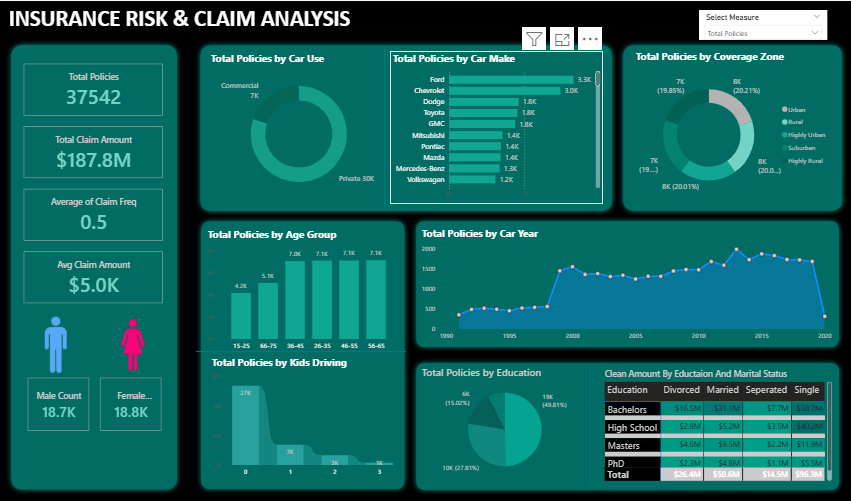

This screenshot's page, from the dashboard's own definition file:
{"tool":"powerbi","page":{"name":"Insurance Risk","canvas":[1600,950],"ordinal":0},"visuals":[{"type":"textbox","box":[10.5,0,663.5,111.3],"z":0},{"type":"shape","box":[10.5,73.5,329.7,850.4],"z":1000},{"type":"cardVisual","fields":{"Data":["insurance_data_car.Total Policies","insurance_data_car.Total Claim Amount","Avg(insurance_data_car.Claim Freq)","insurance_data_car.Avg Claim Amount"]},"box":[39.9,111.3,270.9,459.8],"z":2000},{"type":"cardVisual","fields":{"Data":["insurance_data_car.Male Count","insurance_data_car.Female Count"]},"box":[46.2,699.2,260.4,109.2],"z":3000},{"type":"image","box":[45.8,585.4,114.6,114.6],"z":4000},{"type":"image","box":[191.7,585.4,114.6,114.6],"z":5000},{"type":"slicer","fields":{"Values":["Select Measure.Select Measure"]},"box":[1306.2,16.7,239.6,56.2],"z":6000},{"type":"shape","box":[364.6,72.9,790,330],"z":7000},{"type":"donutChart","fields":{"Y":["insurance_data_car.Total Claim Amount"],"Category":["insurance_data_car.Car Use"]},"box":[389.6,93.8,339.6,285.4],"z":8000},{"type":"clusteredBarChart","fields":{"Y":["insurance_data_car.Total Claim Amount"],"Category":["insurance_data_car.Car Make"]},"box":[729.2,93.8,397.9,285.4],"z":9000},{"type":"shape","box":[1156.2,72.9,429.2,329.2],"z":10000},{"type":"donutChart","fields":{"Y":["insurance_data_car.Total Claim Amount"],"Category":["insurance_data_car.Coverage Zone"]},"box":[1183.3,89.6,375,295.8],"z":11000},{"type":"shape","box":[366.7,402.1,400,520.8],"z":12000},{"type":"clusteredColumnChart","fields":{"Y":["insurance_data_car.Total Claim Amount"],"Category":["insurance_data_car.Age Group"]},"box":[383.4,422.6,364.7,239.4],"z":13000},{"type":"ribbonChart","fields":{"Y":["insurance_data_car.Total Claim Amount"],"Category":["insurance_data_car.Kids Driving"]},"box":[390.8,662,357.2,235.6],"z":14000},{"type":"shape","box":[768.6,402.1,810,255],"z":15000},{"type":"areaChart","fields":{"Y":["insurance_data_car.Total Claim Amount"],"Category":["insurance_data_car.Car Year"]},"box":[783.2,419.9,776.9,222.6],"z":16000},{"type":"shape","box":[768.5,667.7,810.5,256.2],"z":17000},{"type":"pieChart","fields":{"Y":["insurance_data_car.Total Claim Amount"],"Category":["insurance_data_car.Education"]},"box":[783.2,680.3,321.3,216.3],"z":18000},{"type":"pivotTable","title":"Clean Amount By Eductaion And Marital Status","fields":{"Rows":["insurance_data_car.Education"],"Columns":["insurance_data_car.Marital Status"],"Values":["insurance_data_car.Total Claim Amount"]},"box":[1125.5,686.6,434.6,216.3],"z":19000},{"type":"shape","box":[569,86.1,300.3,300.3],"z":20000},{"type":"shape","box":[953.3,686.6,300.3,222.6],"z":21000},{"type":"shape","box":[367.5,543.8,392.7,222.6],"z":22000}]}

Visuals, with their boxes in screenshot pixels (x1, y1, x2, y2), scaled from the page's 1600x950 canvas onto the 851x501 screenshot:
textbox: BBox(6, 0, 358, 59)
shape: BBox(6, 39, 181, 487)
cardVisual - insurance_data_car.Total Policies x insurance_data_car.Total Claim Amount: BBox(21, 59, 165, 301)
cardVisual - insurance_data_car.Male Count x insurance_data_car.Female Count: BBox(25, 369, 163, 426)
image: BBox(24, 309, 85, 369)
image: BBox(102, 309, 163, 369)
slicer - Select Measure.Select Measure: BBox(695, 9, 822, 38)
shape: BBox(194, 38, 614, 212)
donutChart - insurance_data_car.Total Claim Amount x insurance_data_car.Car Use: BBox(207, 49, 388, 200)
clusteredBarChart - insurance_data_car.Total Claim Amount x insurance_data_car.Car Make: BBox(388, 49, 599, 200)
shape: BBox(615, 38, 843, 212)
donutChart - insurance_data_car.Total Claim Amount x insurance_data_car.Coverage Zone: BBox(629, 47, 829, 203)
shape: BBox(195, 212, 408, 487)
clusteredColumnChart - insurance_data_car.Total Claim Amount x insurance_data_car.Age Group: BBox(204, 223, 398, 349)
ribbonChart - insurance_data_car.Total Claim Amount x insurance_data_car.Kids Driving: BBox(208, 349, 398, 473)
shape: BBox(409, 212, 840, 347)
areaChart - insurance_data_car.Total Claim Amount x insurance_data_car.Car Year: BBox(417, 221, 830, 339)
shape: BBox(409, 352, 840, 487)
pieChart - insurance_data_car.Total Claim Amount x insurance_data_car.Education: BBox(417, 359, 587, 473)
"Clean Amount By Eductaion And Marital Status" pivotTable: BBox(599, 362, 830, 476)
shape: BBox(303, 45, 462, 204)
shape: BBox(507, 362, 667, 479)
shape: BBox(195, 287, 404, 404)
